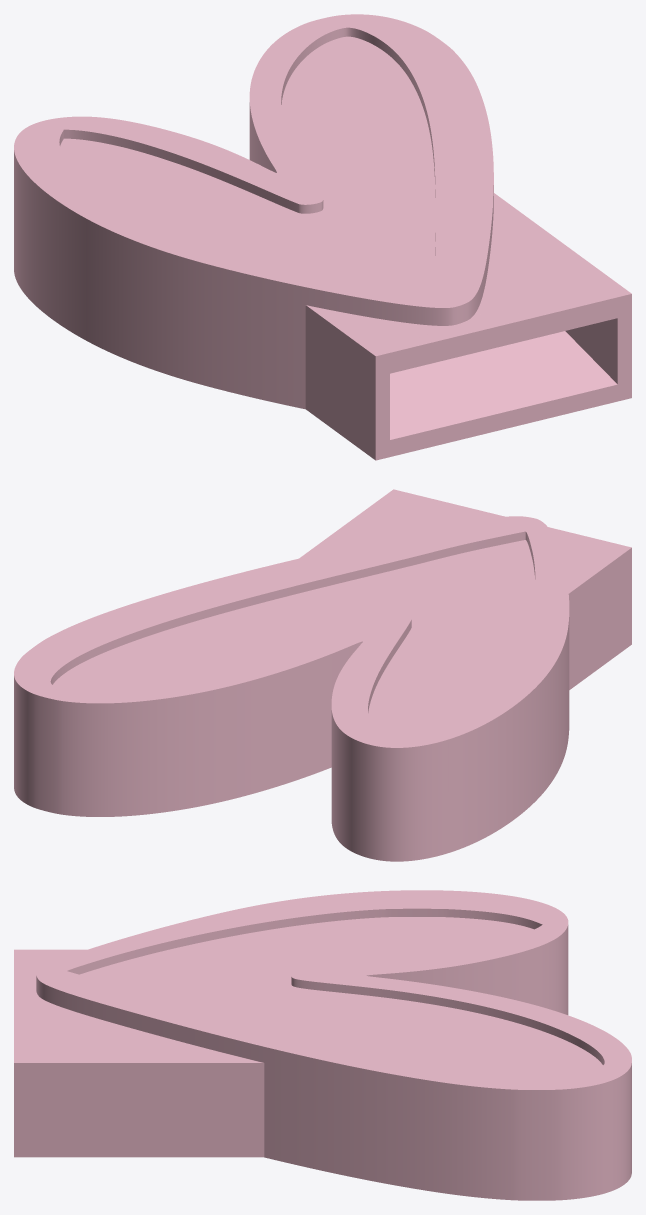
Rendered from abridor-corazon.glb.
3 views of the same model, one above another, from view 1: azimuth 30°, elevation 25°; view 2: azimuth 150°, elevation 25°; view 3: azimuth 270°, elevation 25° (orthographic). The views are drawn at different scales.
Parts seen in each view (by area): view 1: pieza; view 2: pieza; view 3: pieza.
Part boxes in pixels (x1=…): pieza: x1=14, y1=14, x2=631, y2=460; pieza: x1=14, y1=489, x2=631, y2=861; pieza: x1=14, y1=890, x2=631, y2=1200.
Bounding box in the file's own units: 0.0318 × 0.0082 × 0.0415.
